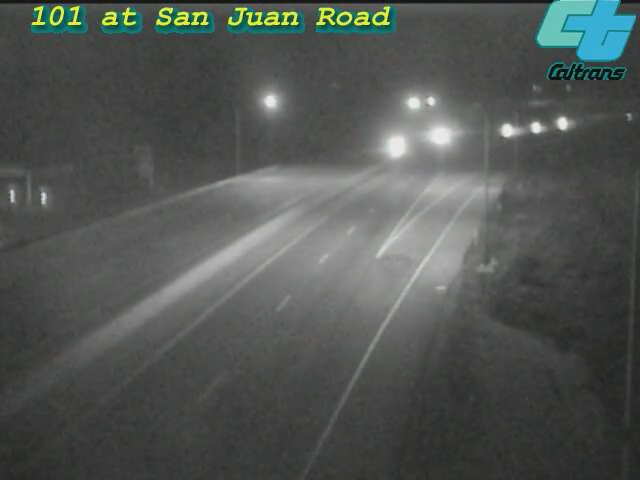vehicle: (370, 120, 420, 170), (406, 113, 456, 163), (539, 99, 589, 149), (511, 102, 561, 152), (483, 105, 533, 155)
